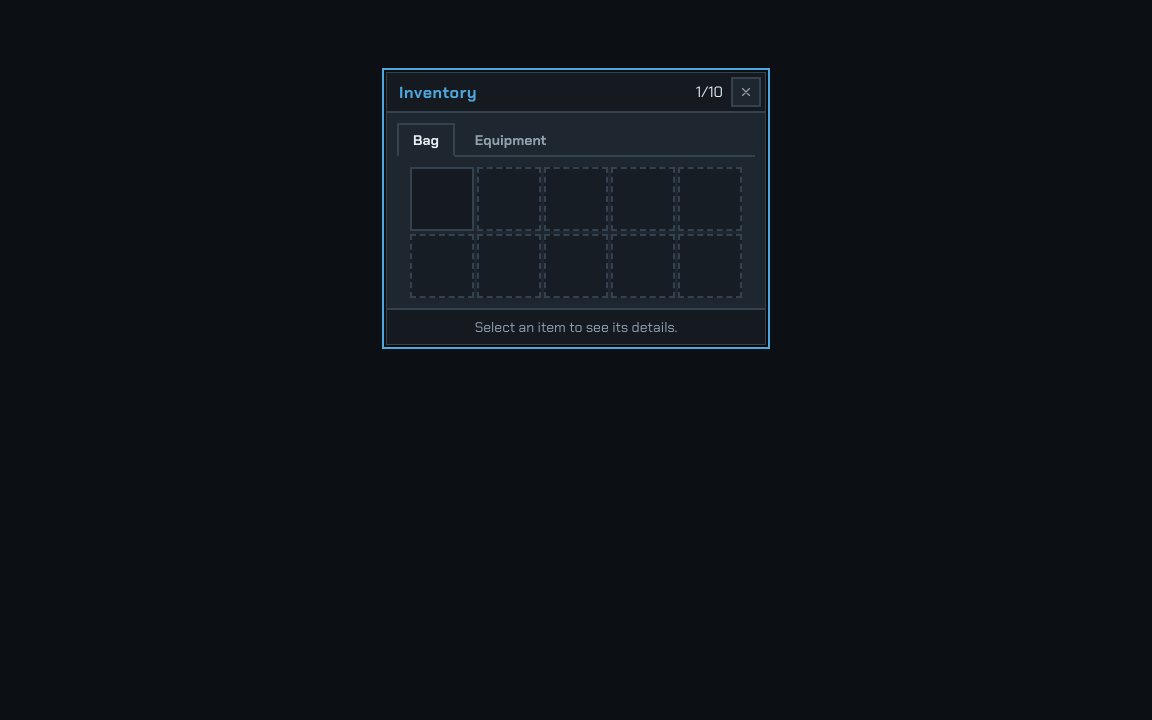
Test case: InventoryPanel › offers no way to drop what is bound
This screenshot has width=1152, height=720.
Click the button named "Axe" at (442, 199), box [410,167,474,231]
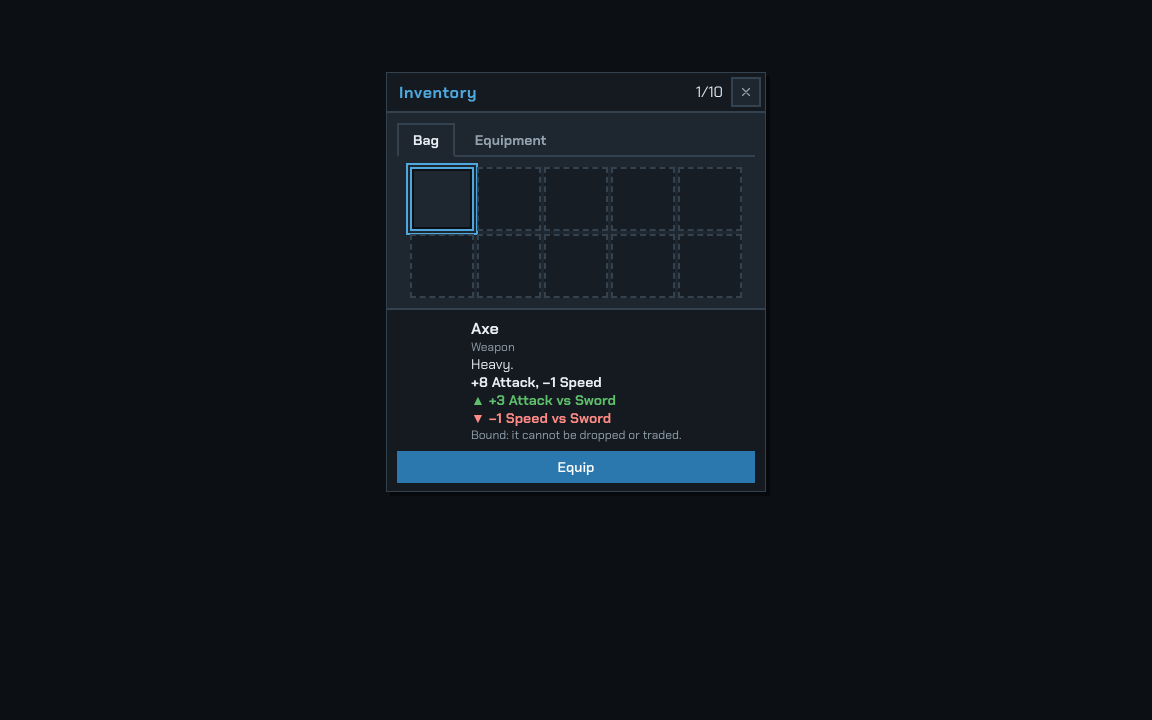
Check: the text "Bound: it cannot be dropped or traded." is shown, box [471,427,681,443]
